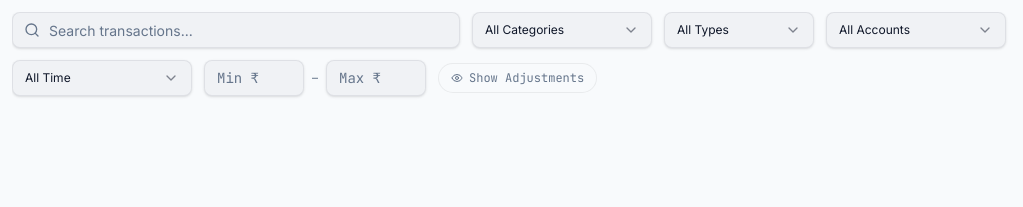
Scenario: DesktopFilterBar › opens type select and shows type options
Click the dropdown labelled "All Types": (739, 30) [664, 12, 814, 48]
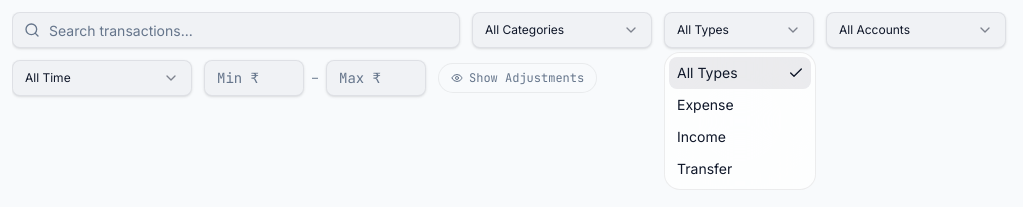
Expected: the 1st text "All Types" is shown, [677, 22, 729, 38]
Result: the text "Expense" is shown at [677, 95, 734, 115]
Result: the text "Income" is shown at [677, 127, 726, 147]
